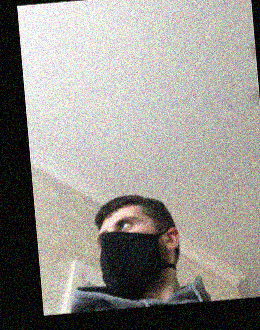with_mask: (98, 214, 163, 297)
